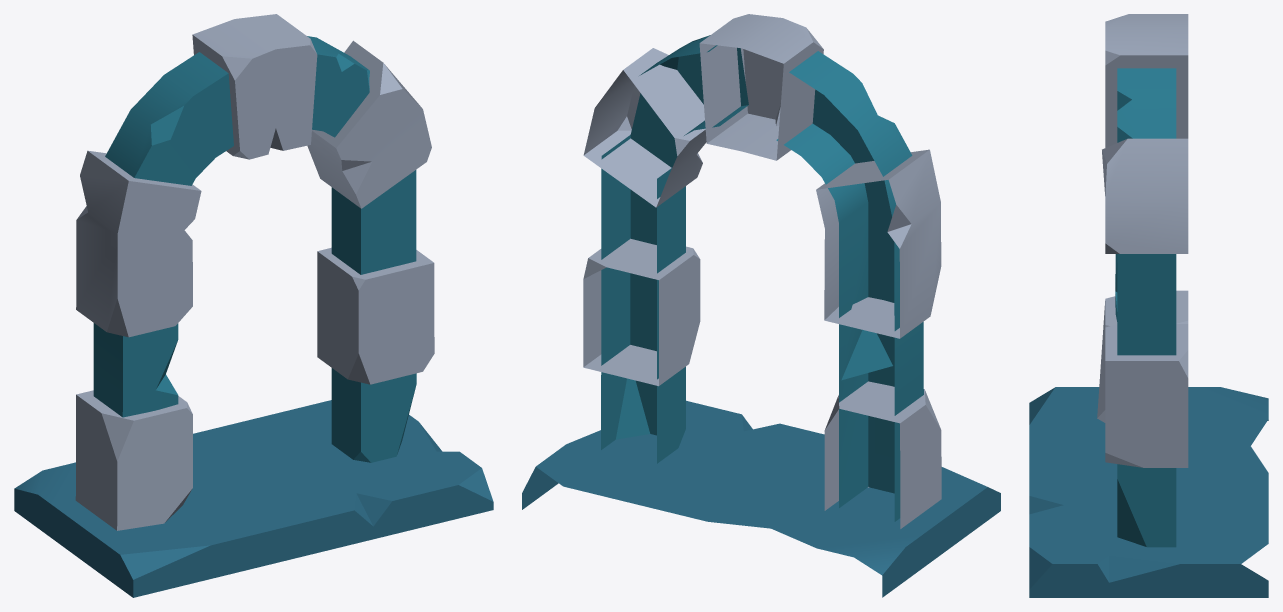
Rendered from Portal.fbx.
3 views of the same model, side by side, from view 1: azimuth 30°, elevation 25°; view 2: azimuth 150°, elevation 25°; view 3: azimuth 270°, elevation 25° (orthographic).
Visible parts, largest first — view 1: Portal; view 2: Portal; view 3: Portal.
Part boxes in pixels (box(x1,y1,x2,y2)): Portal: box(14, 14, 493, 597); Portal: box(522, 14, 1000, 597); Portal: box(1029, 14, 1268, 597).
Size of the model in its own units: 5.27 by 6.67 by 3.01.
